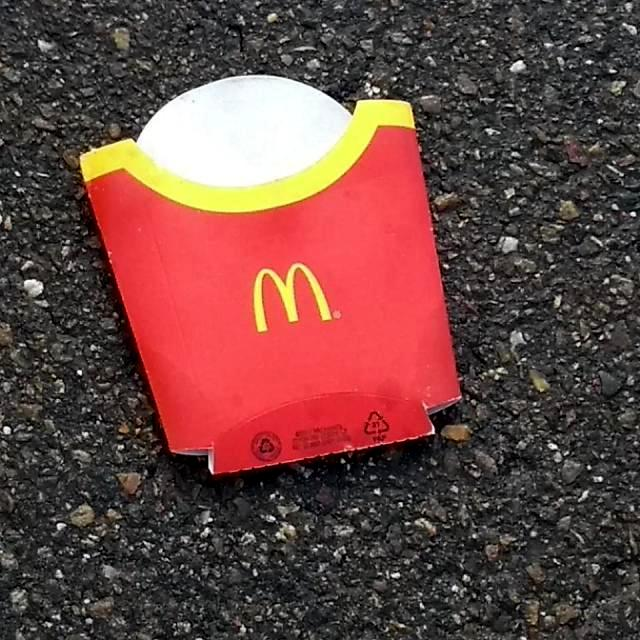Paper: (74, 72, 466, 480)
